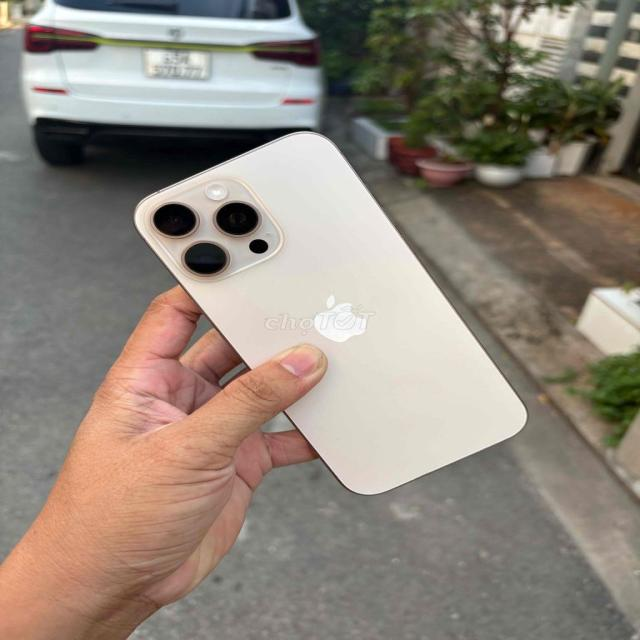gen_16: (130, 125, 538, 494)
